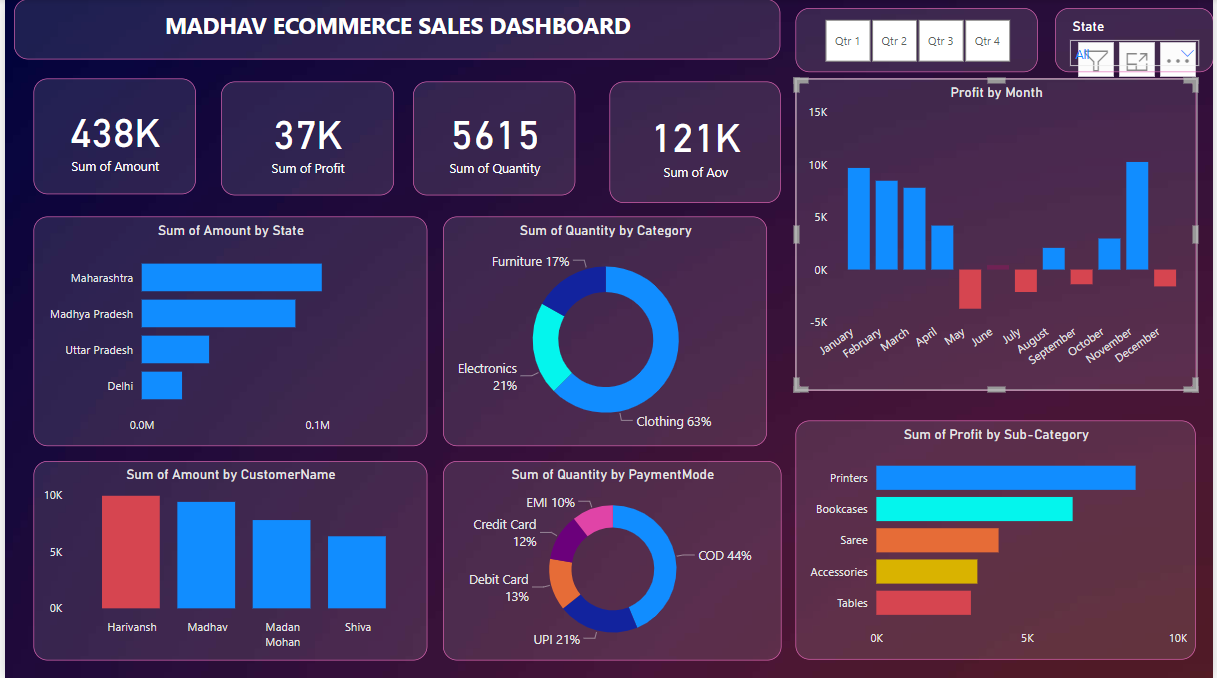

The page's visual inventory and layout, read from the dashboard file:
{"tool":"powerbi","page":{"name":"E-Commerce Sales Data Dashboard","canvas":[1280,720],"ordinal":0},"visuals":[{"type":"textbox","box":[9.4,0,811.8,64.2],"z":0},{"type":"columnChart","title":"Profit by Month","fields":{"Category":["Orders.Order Date.Variation.Date Hierarchy.Month"],"Y":["Details.Profit"]},"box":[838.2,85,424.8,330.4],"z":1000},{"type":"barChart","fields":{"Category":["Details.Sub-Category"],"Y":["Details.Profit"]},"box":[837.4,446.3,424.2,253.4],"z":2000},{"type":"donutChart","fields":{"Category":["Details.Category"],"Y":["Details.Quantity"]},"box":[464.4,230.3,343.6,243.5],"z":3000},{"type":"donutChart","fields":{"Y":["Details.Quantity"],"Category":["Details.PaymentMode"]},"box":[464.4,489,358.7,211.4],"z":4000},{"type":"card","fields":{"Values":["Details.Amount"]},"box":[30.2,85,171.8,122.7],"z":5000},{"type":"card","fields":{"Values":["Details.Quantity"]},"box":[432.3,86.8,171.8,120.8],"z":6000},{"type":"card","fields":{"Values":["Details.Profit"]},"box":[228.4,86.8,183.1,120.8],"z":7000},{"type":"card","fields":{"Values":["Details.Aov"]},"box":[640,86.8,181.2,128.4],"z":8000},{"type":"barChart","fields":{"Category":["Orders.State"],"Y":["Details.Amount"]},"box":[30.2,230.3,417.2,243.5],"z":9000},{"type":"columnChart","fields":{"Category":["Orders.CustomerName"],"Y":["Details.Amount"]},"box":[30.2,489,417.2,211.4],"z":10000},{"type":"slicer","fields":{"Values":["Orders.Order Date.Variation.Date Hierarchy.Quarter"]},"box":[838.2,9.4,256.8,68],"z":11000},{"type":"slicer","fields":{"Values":["Orders.State"]},"box":[1112,9.4,168,68],"z":12000}]}

Visuals, with their boxes in screenshot pixels (x1, y1, x2, y2), scaled from the page's 1280x720 canvas onto the 1217x678 screenshot:
textbox: 9:0:781:60
"Profit by Month" columnChart: 797:80:1201:391
barChart - Details.Sub-Category x Details.Profit: 796:420:1200:659
donutChart - Details.Category x Details.Quantity: 442:217:768:446
donutChart - Details.Quantity x Details.PaymentMode: 442:460:783:660
card - Details.Amount: 29:80:192:196
card - Details.Quantity: 411:82:574:195
card - Details.Profit: 217:82:391:195
card - Details.Aov: 608:82:781:203
barChart - Orders.State x Details.Amount: 29:217:425:446
columnChart - Orders.CustomerName x Details.Amount: 29:460:425:660
slicer - Orders.Order Date.Variation.Date Hierarchy.Quarter: 797:9:1041:73
slicer - Orders.State: 1057:9:1216:73
